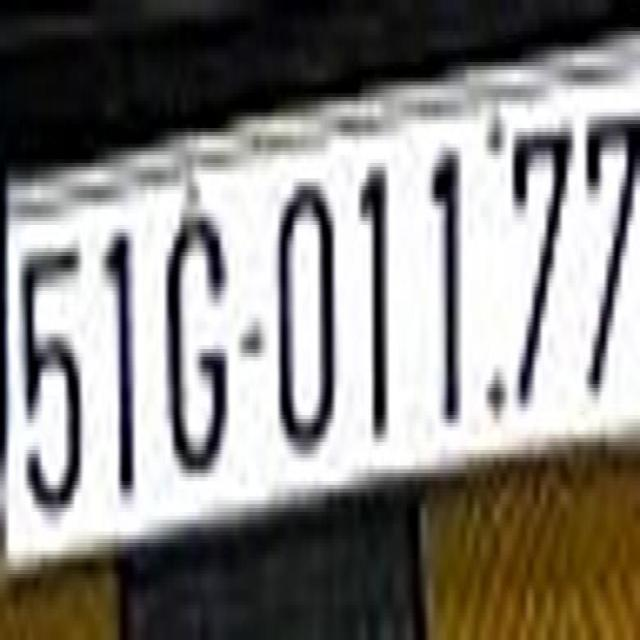0: (268, 151, 336, 458)
1: (424, 132, 469, 438), (98, 206, 142, 508), (358, 143, 397, 454)
5: (15, 225, 83, 516)
7: (508, 97, 575, 423), (582, 78, 639, 407)
G: (163, 186, 231, 473)
